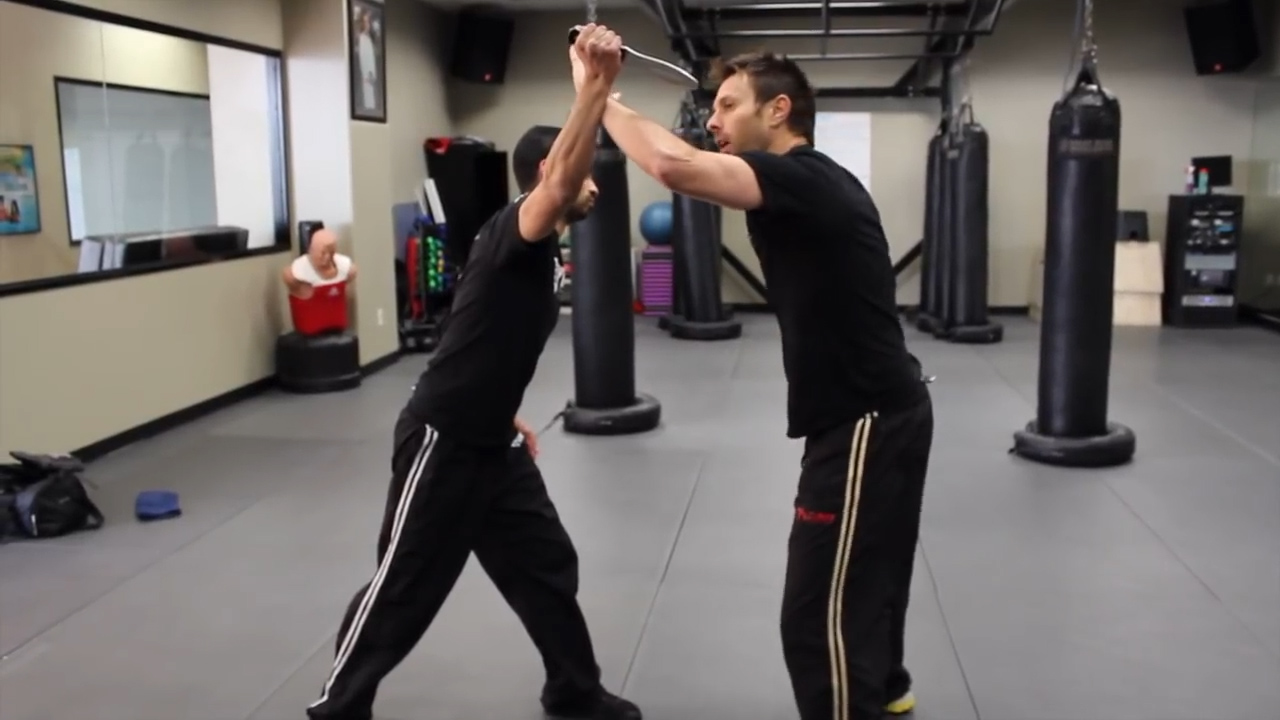knife: (561, 20, 703, 96)
